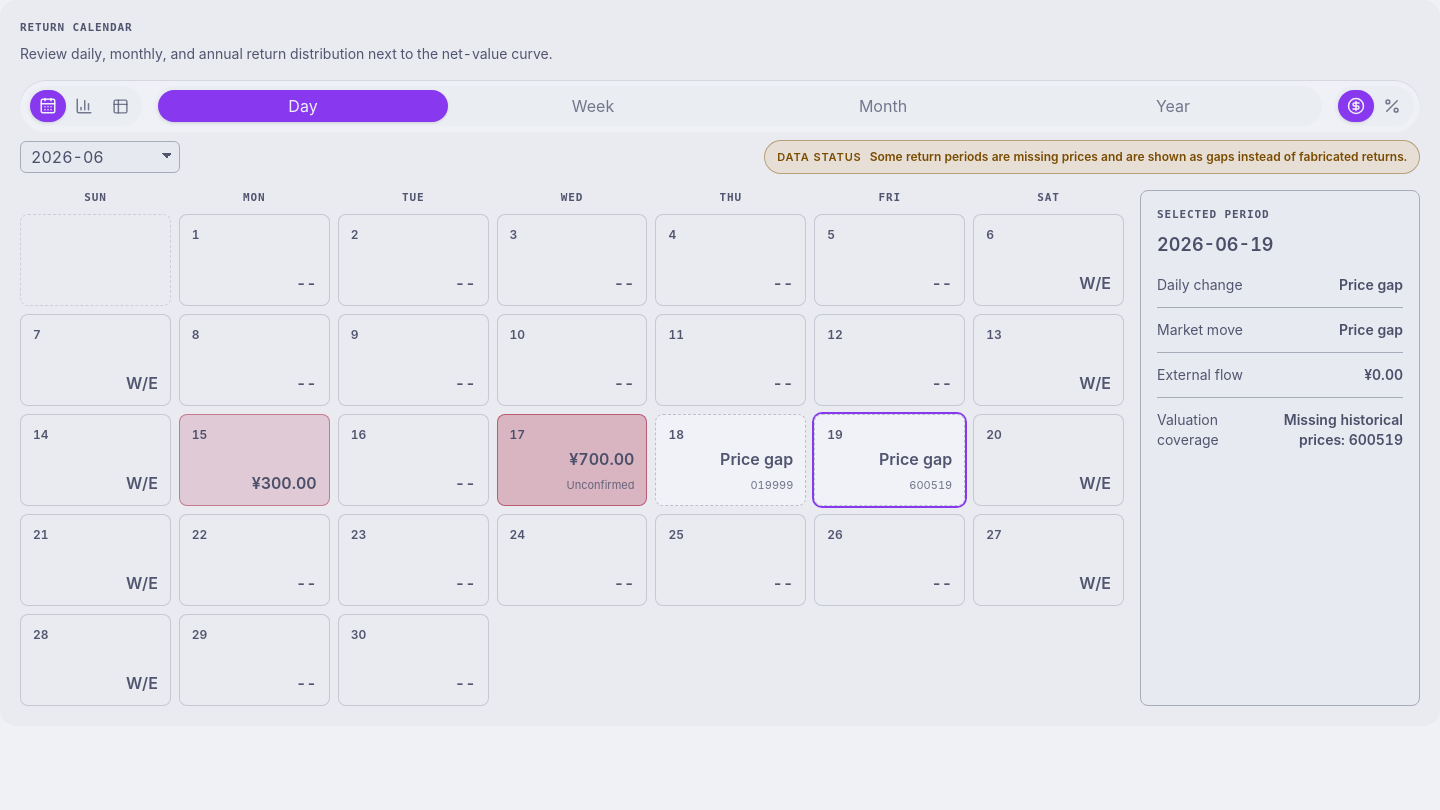
Test case: shows live returns normally and only true missing rows as price gaps
Expected: the text "Data status" is shown, [777, 149, 862, 165]
Expected: the button named "2026-06-15 · ¥300.00" is shown, [179, 414, 330, 506]
Click the button with aria-label "2026-06-17 · ¥700.00".
click(572, 460)  # box [497, 414, 648, 506]
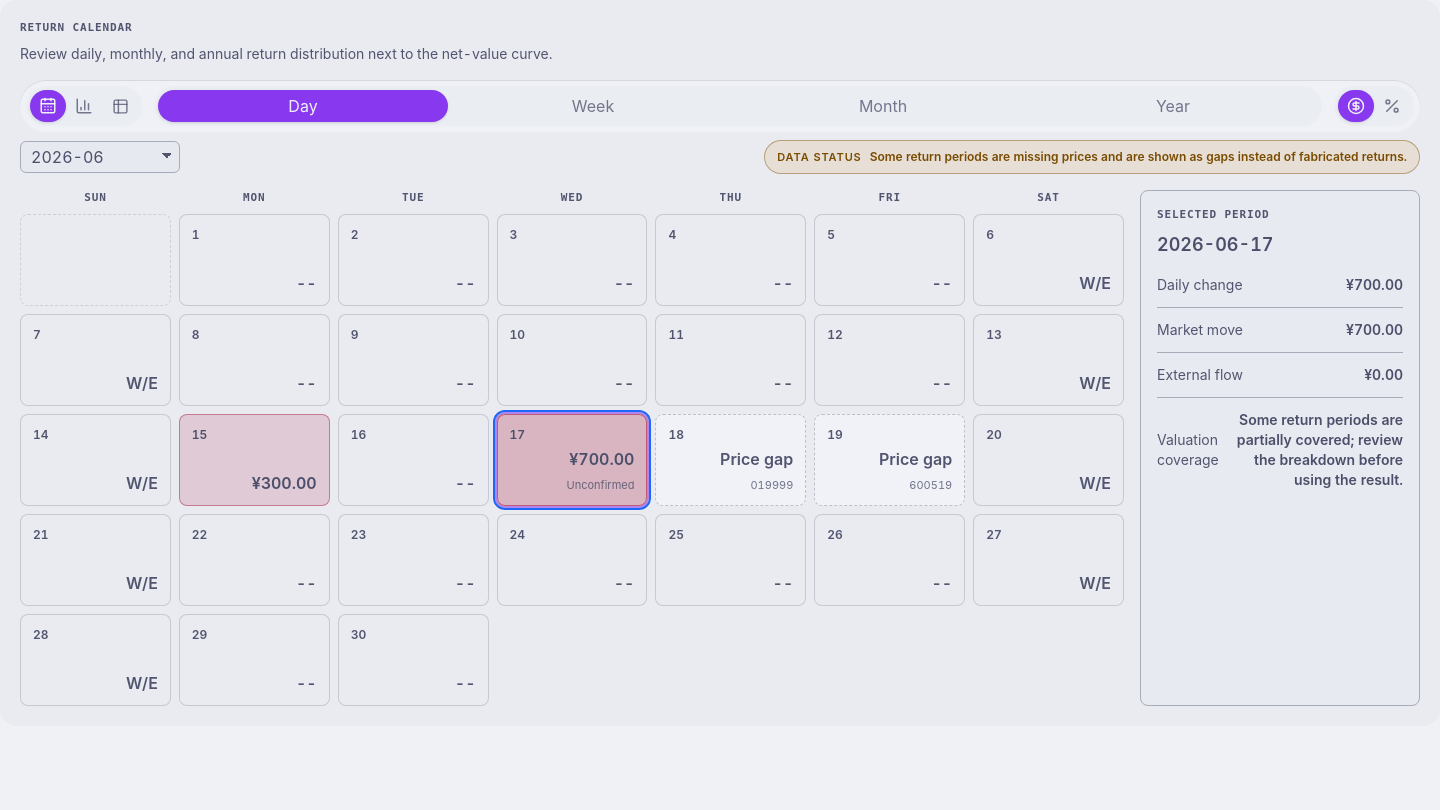
Expected: the text "Valuation coverage" is shown, [1157, 430, 1219, 470]
Expected: the text "Some return periods are partially covered; review the breakdown before using the result." is shown, [1237, 411, 1403, 488]
Expected: the text "¥700.00" next to "Daily change" is shown, [1346, 276, 1403, 293]
